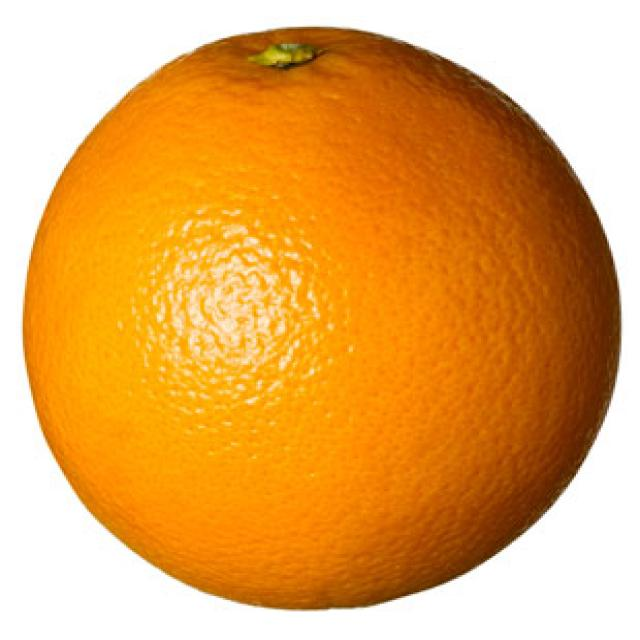orange: (23, 27, 621, 610)
